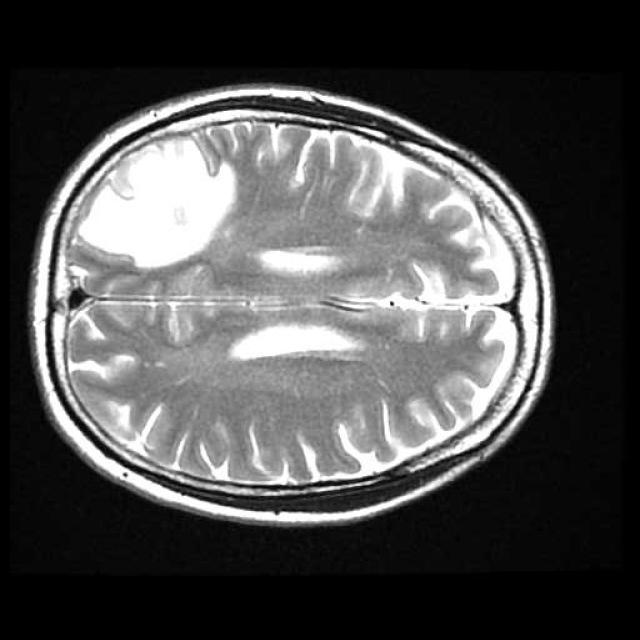tumor: (68, 126, 242, 274)
